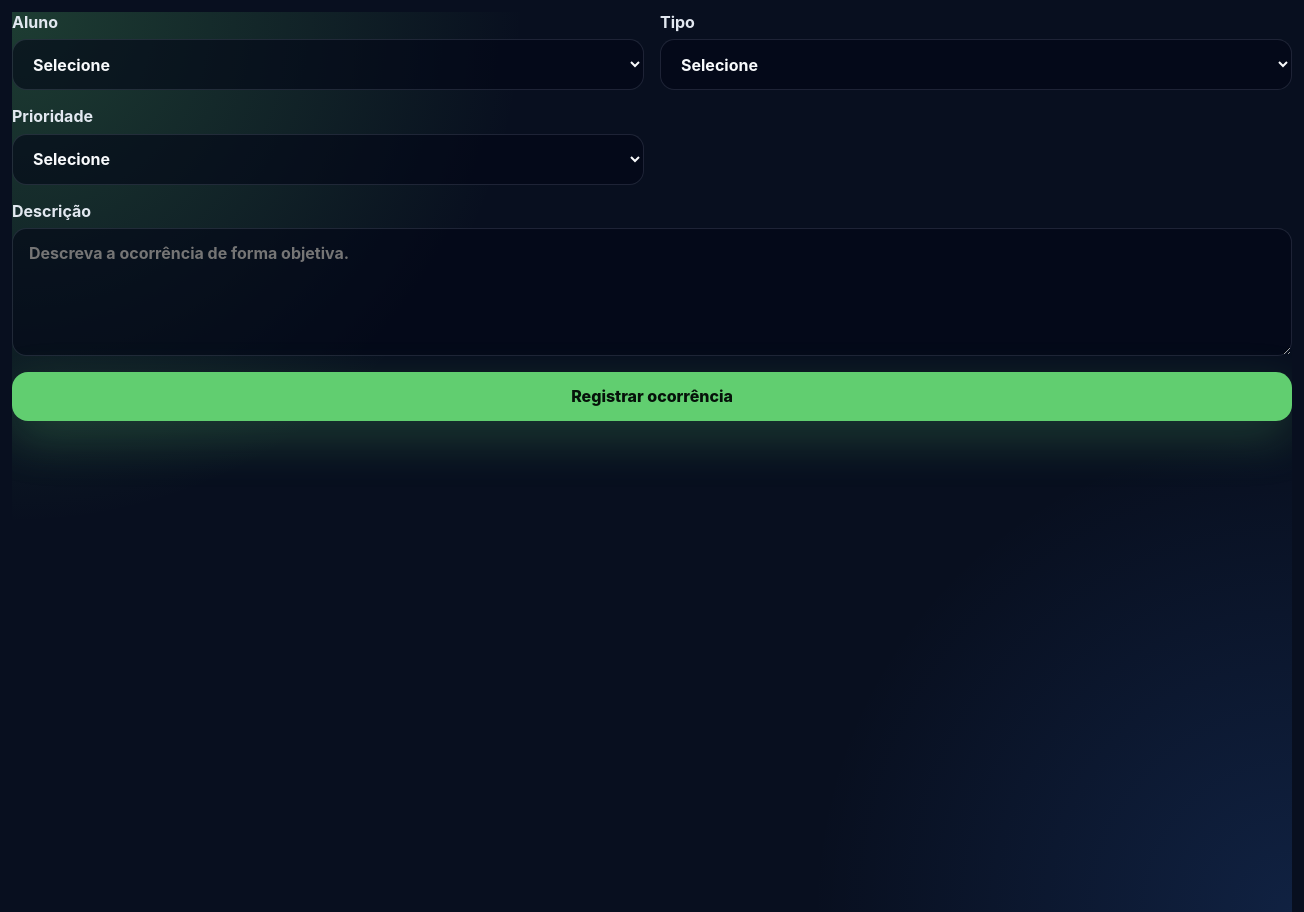
Test: OccurrenceForm › shows validation errors when submitting empty form
This screenshot has width=1304, height=912.
What coordinates should you click on to do the following:
click the button "Registrar ocorrência"
I would click on:
 (652, 396)
Its box is [12, 372, 1292, 421].
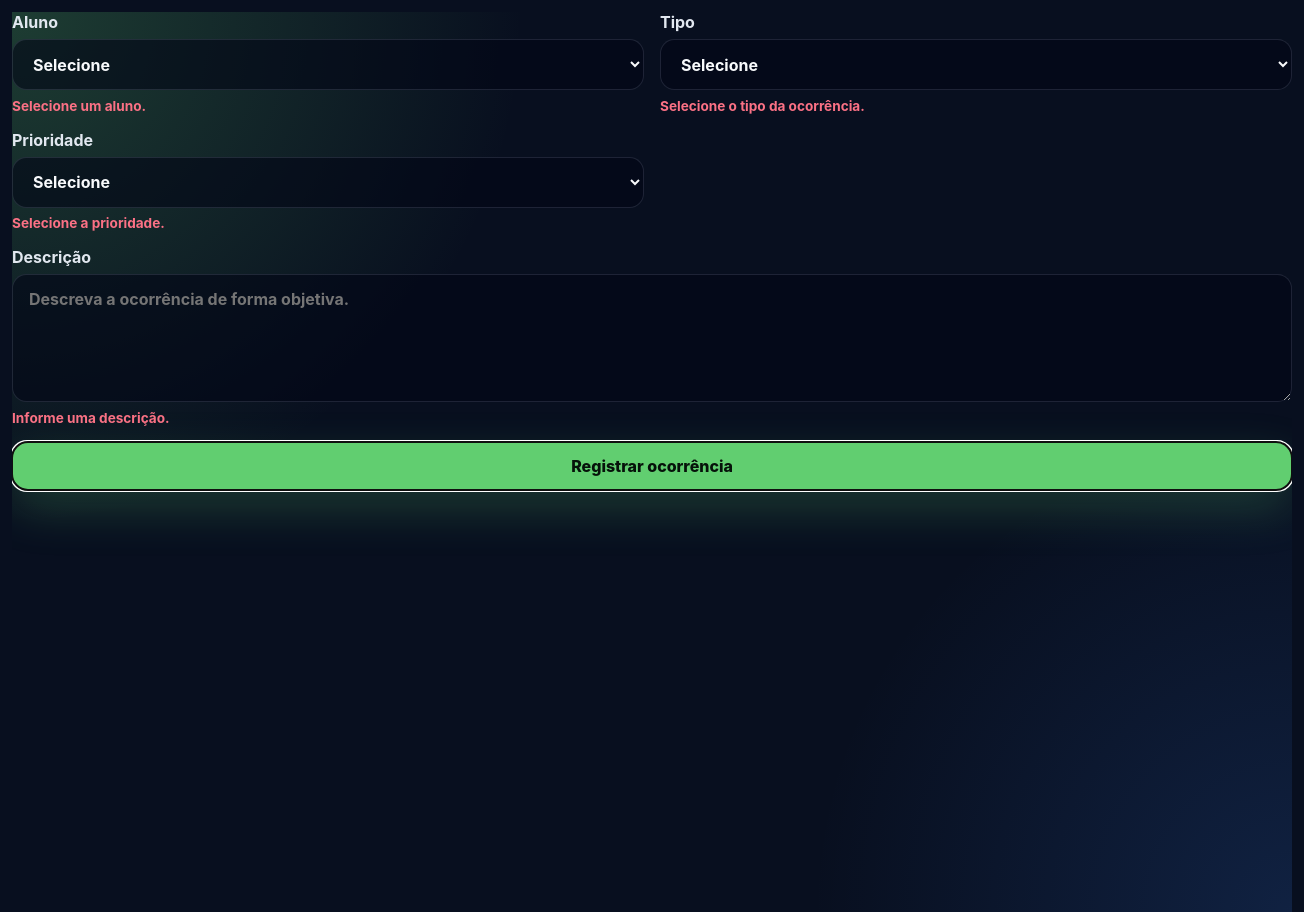
Expected: the text "Selecione um aluno." is shown, [12, 98, 146, 114]
Expected: the text "Selecione o tipo da ocorrência." is shown, [660, 98, 865, 114]
Expected: the text "Informe uma descrição." is shown, [12, 410, 170, 426]
